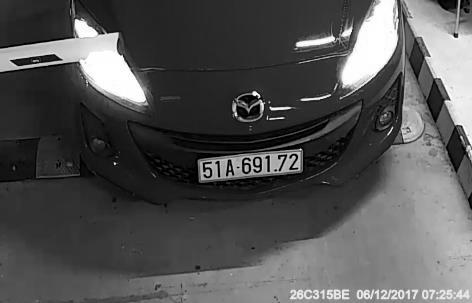License-plate: (190, 144, 308, 188)
